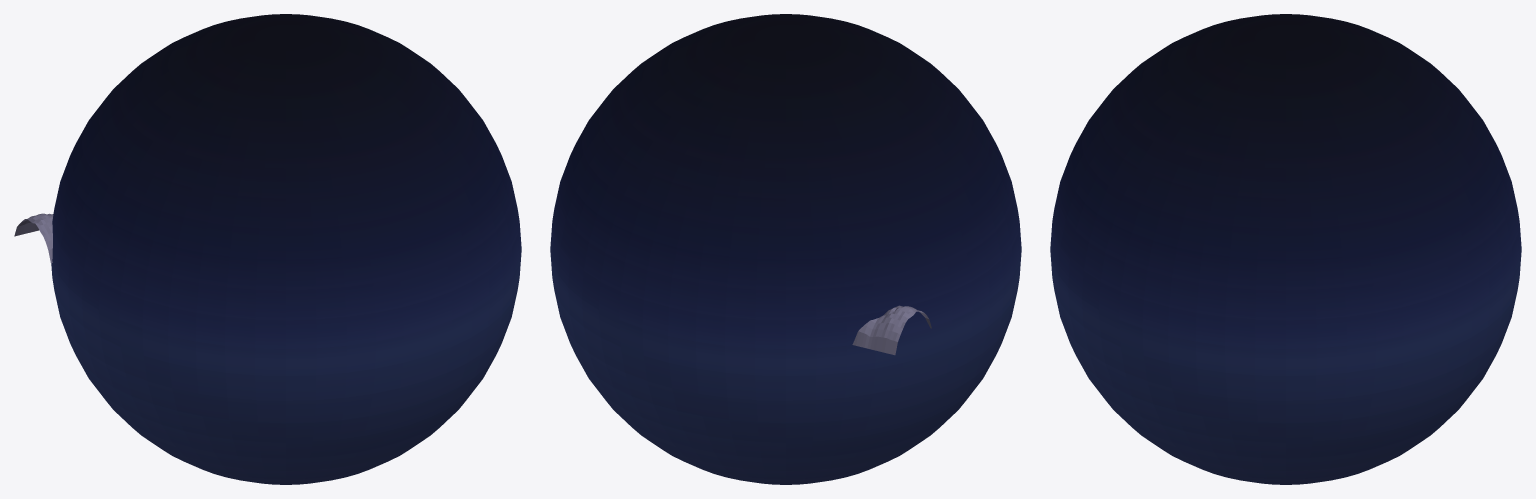
The model's file is manger.glb.
3 renders of one model, left to right at view 1: azimuth 30°, elevation 25°; view 2: azimuth 150°, elevation 25°; view 3: azimuth 270°, elevation 25°, orthographic.
Parts seen in each view (by area): view 1: sky_dome, land_mountains; view 2: sky_dome, land_mountains; view 3: sky_dome.
Boxes of the visible parts, bbox=[...] form: sky_dome: bbox=[51, 14, 521, 484]; land_mountains: bbox=[14, 213, 53, 263]; sky_dome: bbox=[550, 14, 1021, 484]; land_mountains: bbox=[852, 305, 931, 355]; sky_dome: bbox=[1050, 14, 1521, 484].
Size of the model in its own units: 900 by 900 by 900.
71 materials, 11 textured.
